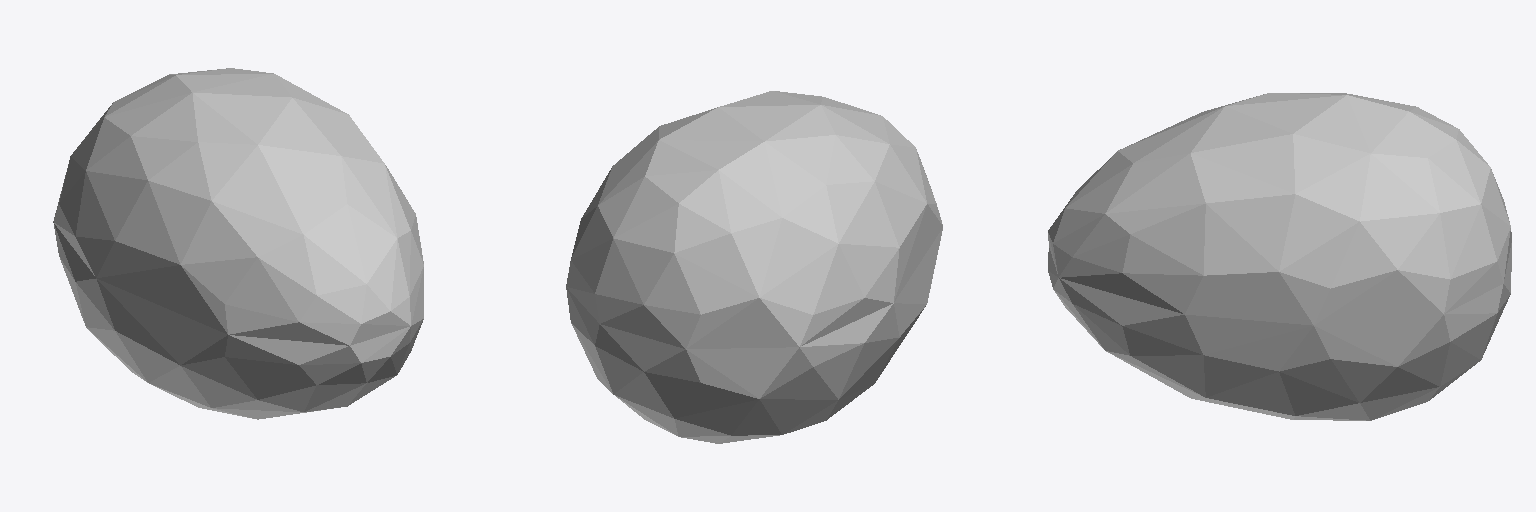
File: egg.obj
The picture shows the model from 3 angles: view 1: azimuth 30°, elevation 25°; view 2: azimuth 150°, elevation 25°; view 3: azimuth 270°, elevation 25°; orthographic projection.
Parts seen in each view (by area): view 1: egg; view 2: egg; view 3: egg.
Part boxes in pixels (left/top/right/bottom): egg: left=53, top=68, right=423, bottom=419; egg: left=566, top=91, right=942, bottom=443; egg: left=1048, top=93, right=1511, bottom=420.
Size of the model in its own units: 1.82 by 1.79 by 2.57.